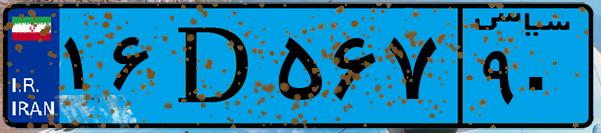0: (525, 38, 570, 115)
1: (57, 26, 110, 100)
5: (270, 28, 330, 110)
6: (330, 28, 385, 110), (110, 28, 158, 98)
7: (385, 28, 445, 110)
9: (475, 38, 525, 113)
D: (158, 12, 270, 120)
